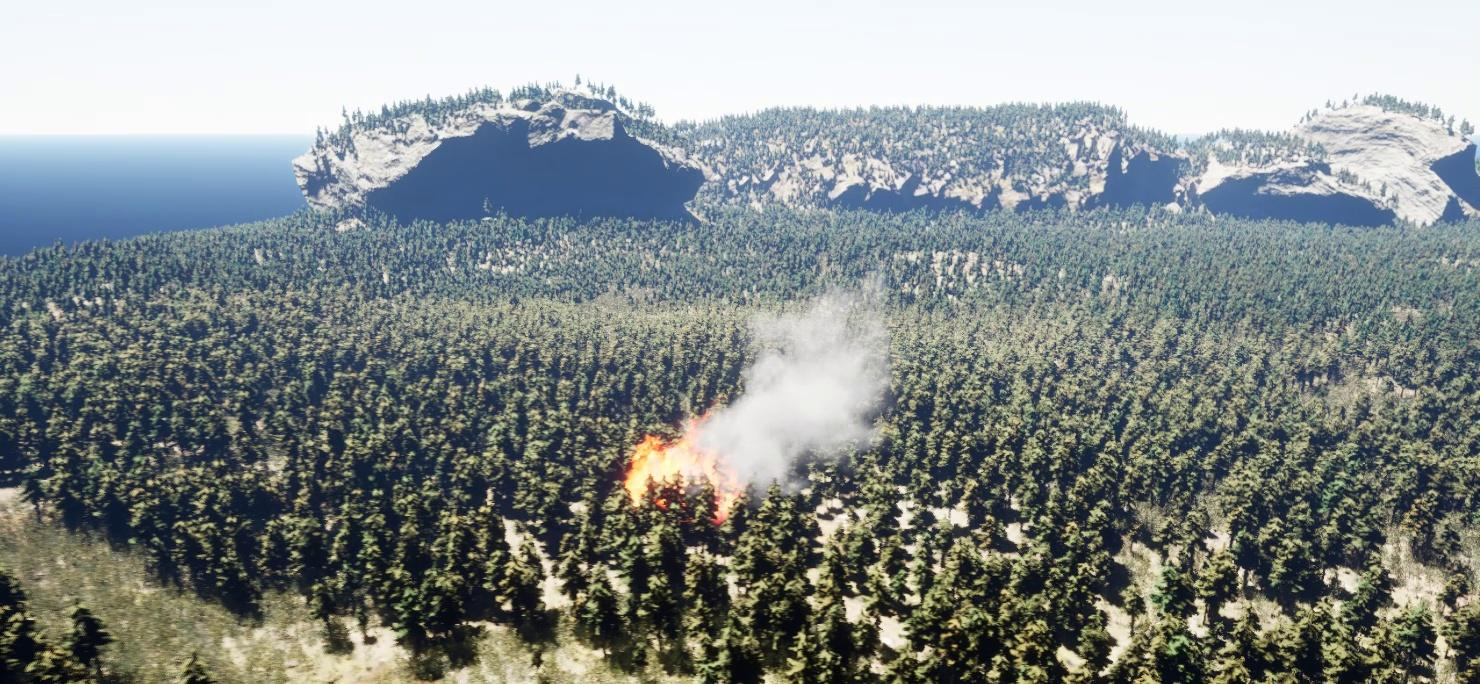fire: (621, 401, 736, 519)
smoke: (698, 288, 900, 504)
